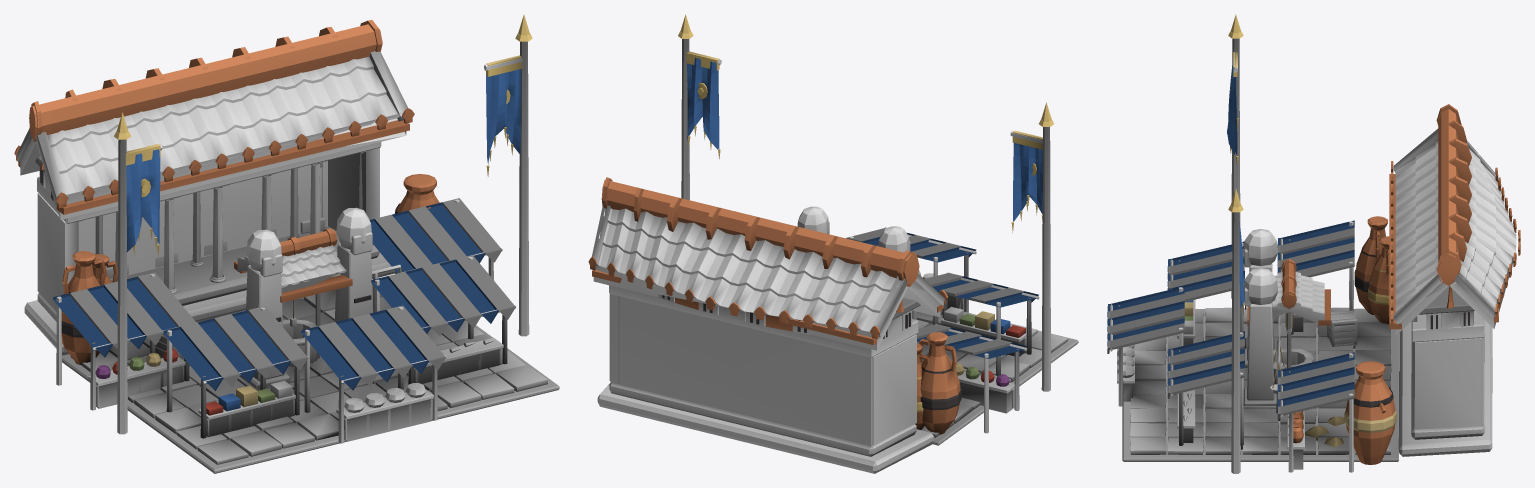
The model's file is agora-l2.glb.
3 views of the same model, side by side, from view 1: azimuth 30°, elevation 25°; view 2: azimuth 150°, elevation 25°; view 3: azimuth 270°, elevation 25° (orthographic). The views are drawn at different scales.
Visible parts, largest first — view 1: agora-l2; view 2: agora-l2; view 3: agora-l2.
Boxes of the visible parts, x1,y1,x2,y2 form: agora-l2: [14, 14, 559, 473]; agora-l2: [588, 14, 1078, 473]; agora-l2: [1107, 14, 1520, 473].
Size of the model in its own units: 1.32 by 1.01 by 1.28.
